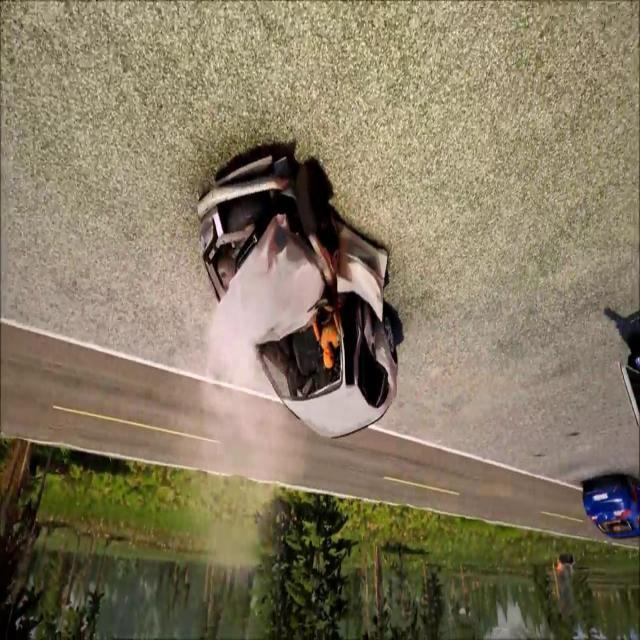severe: (194, 138, 404, 444)
